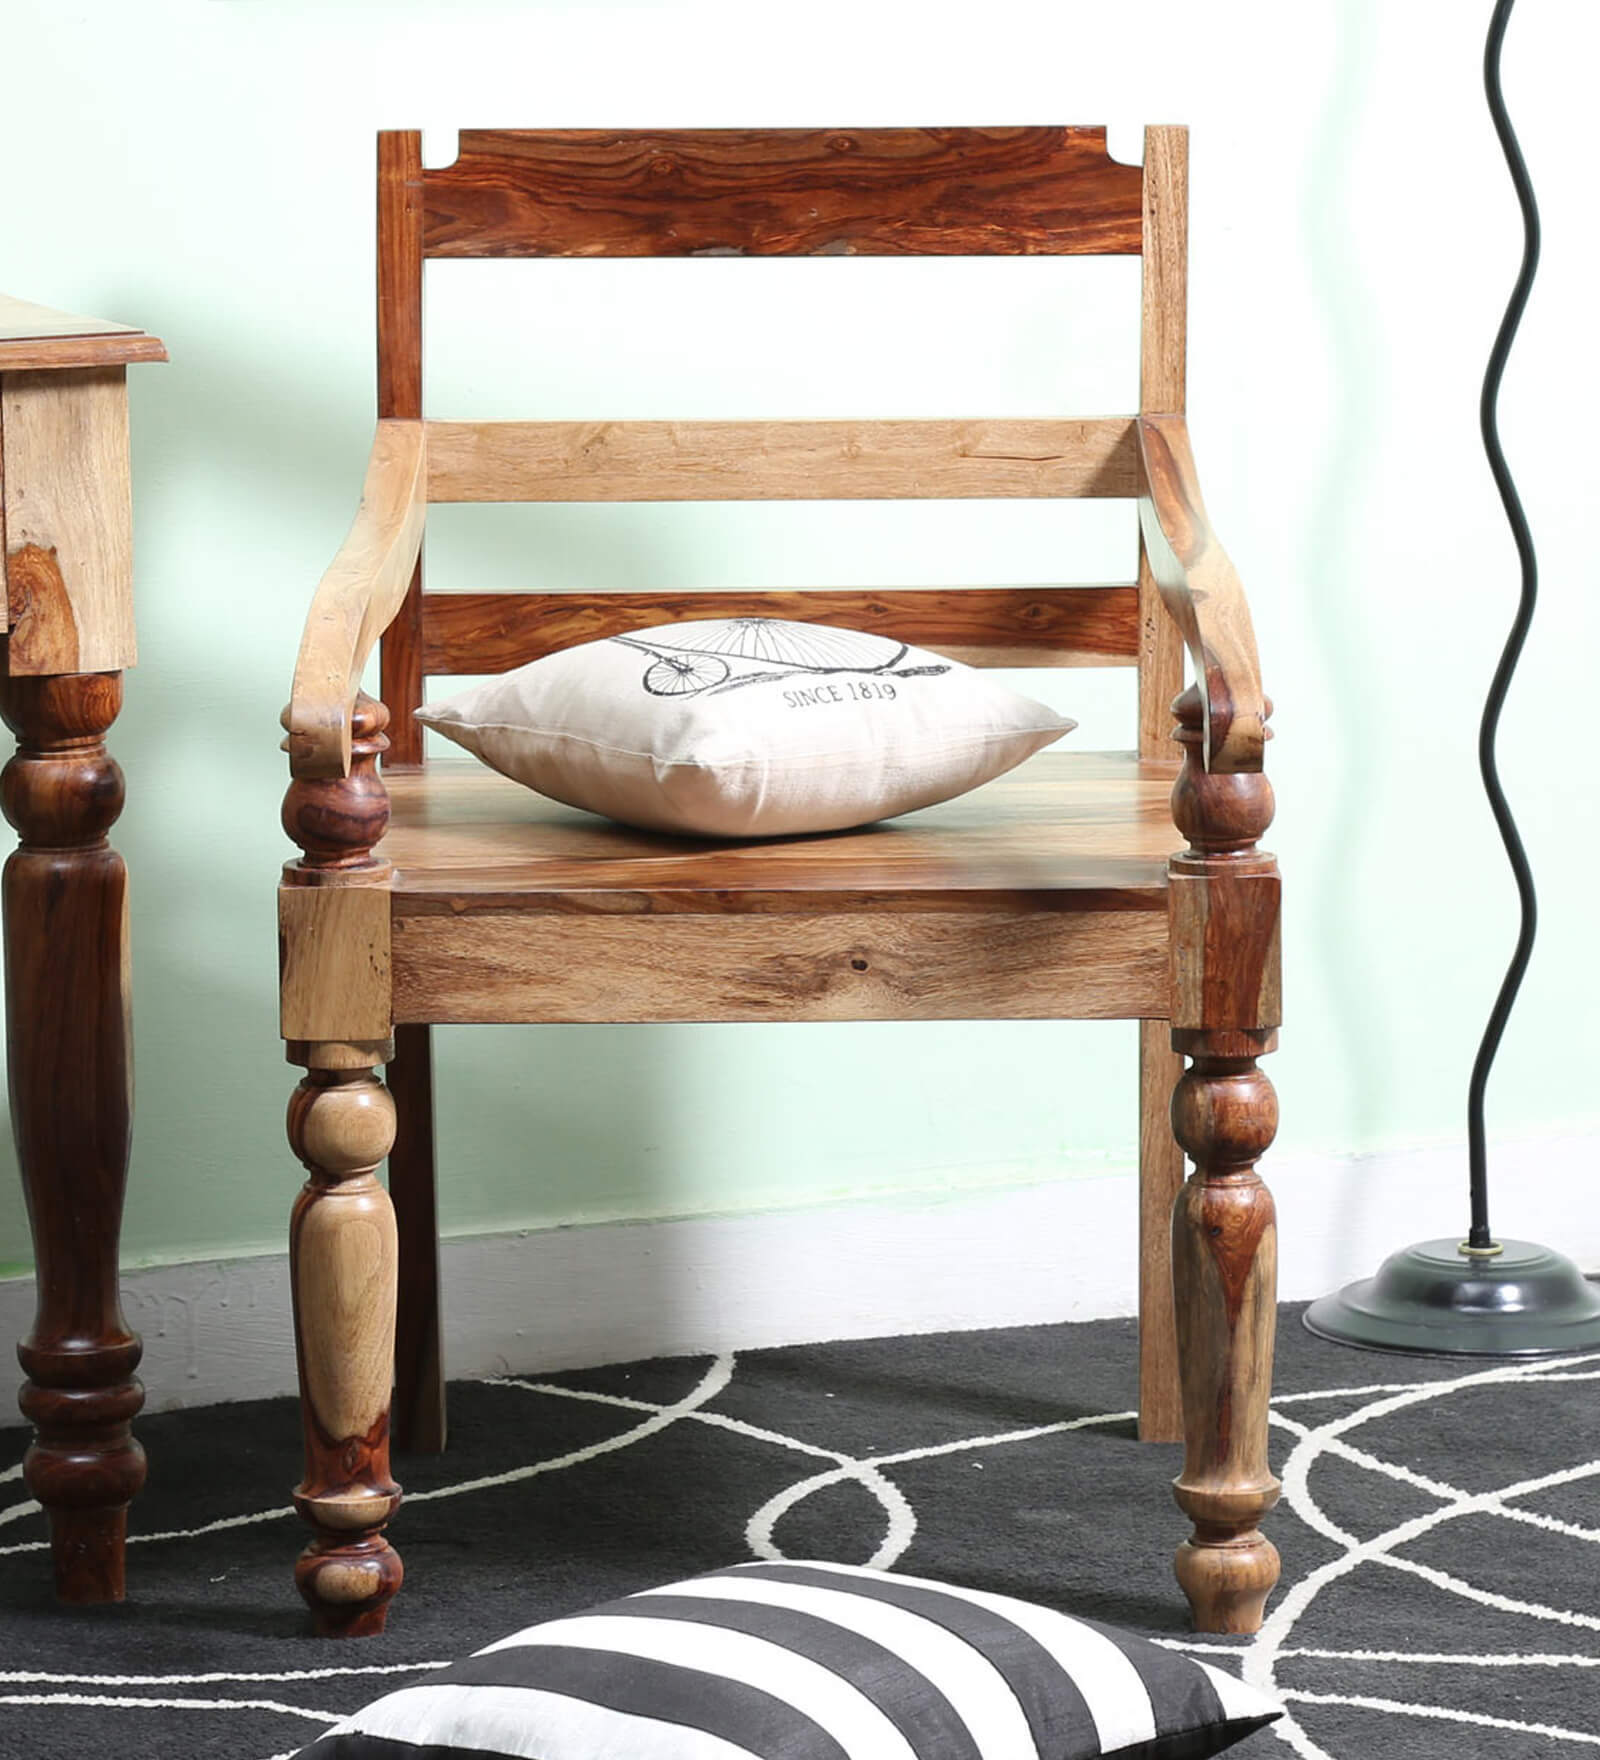Maud Arm Chair in Natural Sheesham Finish by Amberville: (274, 109, 1330, 1633)
